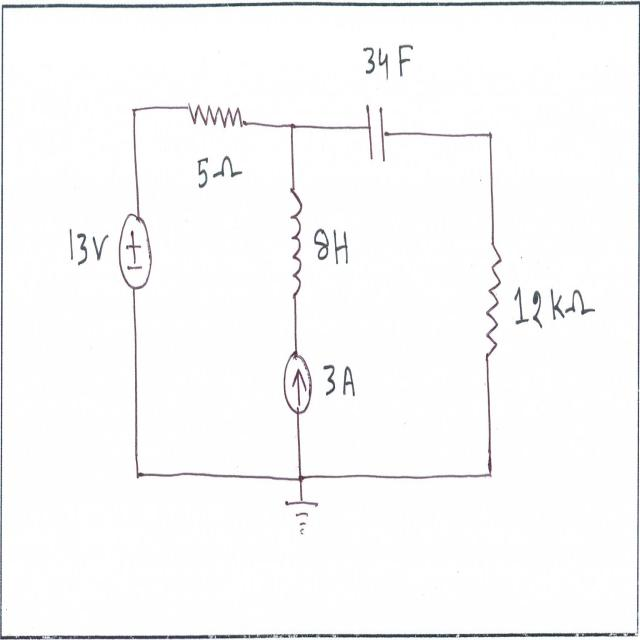capacitor: (362, 101, 392, 179)
current_source: (280, 351, 314, 424)
ground: (282, 493, 329, 544)
inductor: (286, 178, 306, 308)
resistor: (183, 96, 258, 138), (484, 238, 503, 368)
voltage_source: (118, 205, 155, 295)
